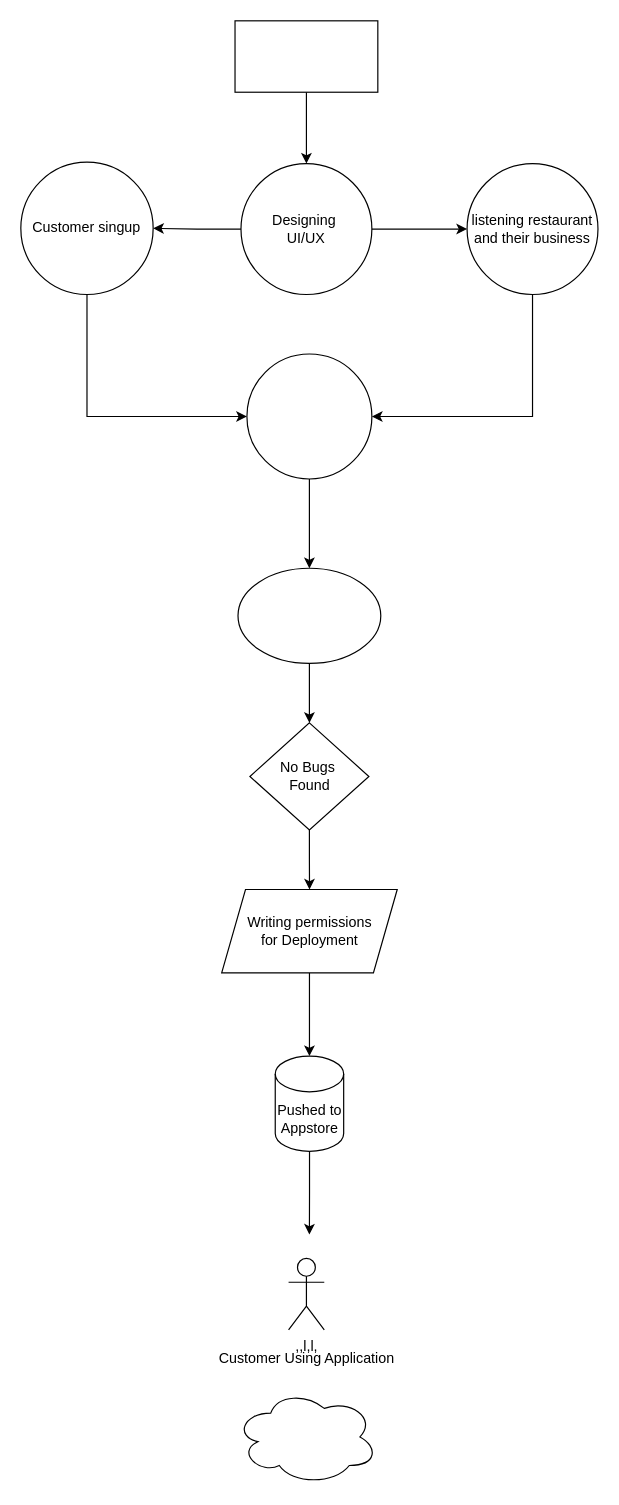
Some shapes in this 619 by 1505 pixel diagram are drawn without their labels. Here are the shapes that lost their labels. From the top down, the centre of each, then its label:
[306,56]: ZK Eats
[309,416]: Checkout Page&RTS
[309,615]: compiling to APK
[306,1436]: Recived No Feedback
